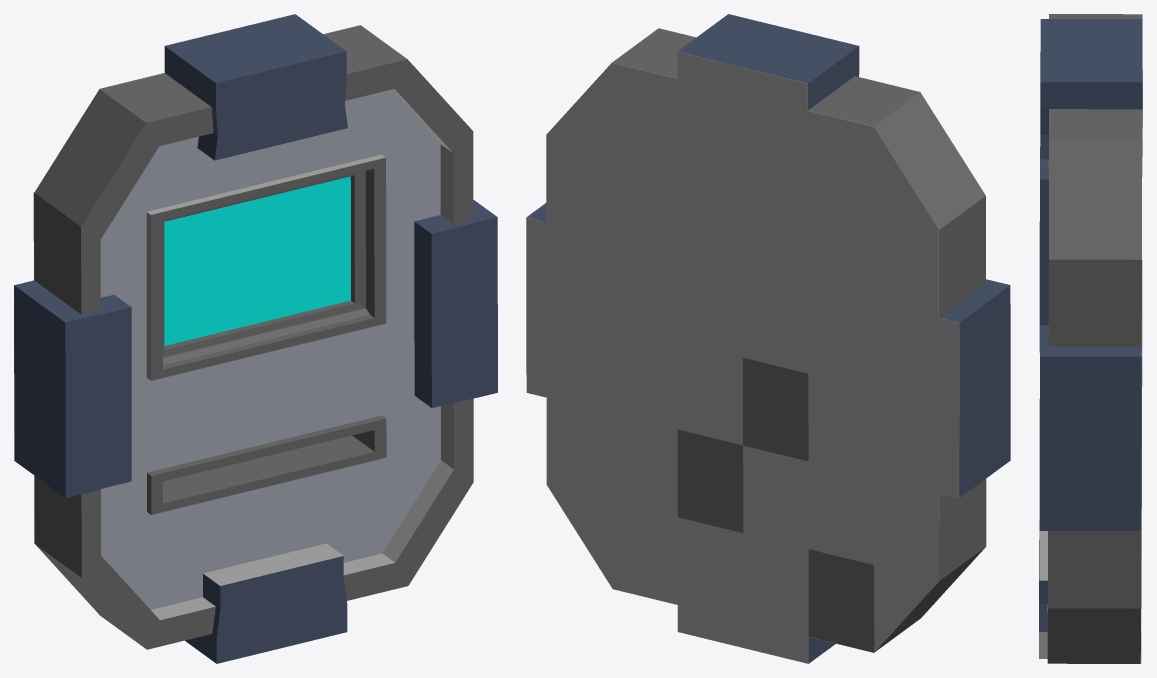
File: reader.fbx
The picture shows the model from 3 angles, left to right: view 1: azimuth 30°, elevation 25°; view 2: azimuth 150°, elevation 25°; view 3: azimuth 270°, elevation 25°; orthographic projection.
Visible parts, largest first — view 1: reader; view 2: reader; view 3: reader.
Boxes of the visible parts, x1,y1,x2,y2 form: reader: [14, 14, 497, 663]; reader: [526, 14, 1010, 663]; reader: [1039, 14, 1142, 663].
Bounding box in the file's own units: 8.65 × 11.1 × 1.81.
